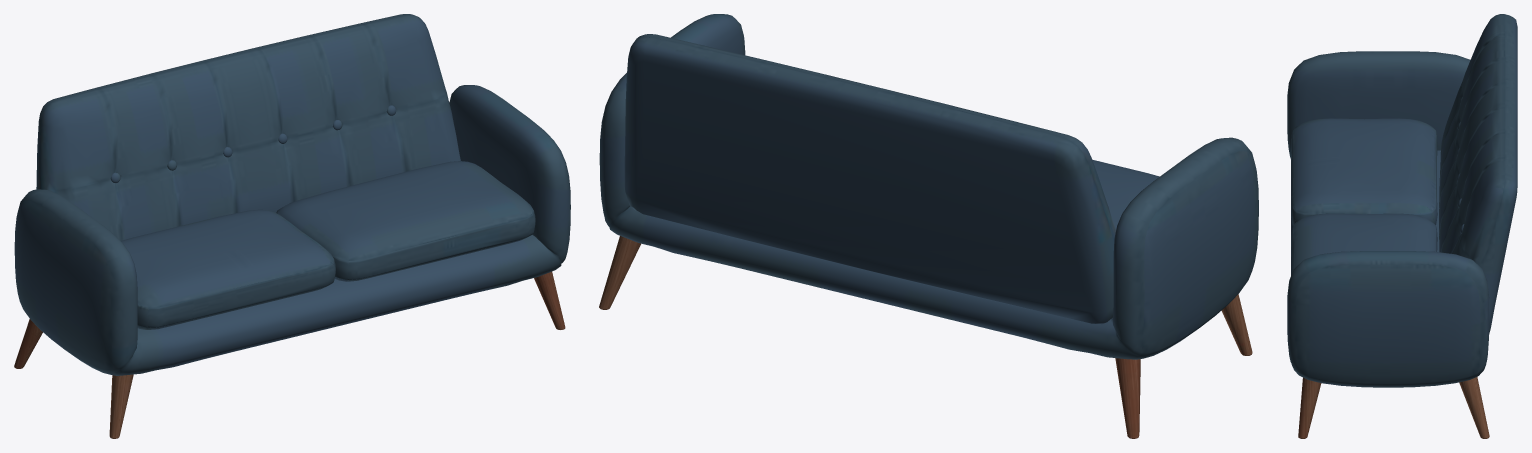
Rendered from sofa-25.glb.
3 views of the same model, side by side, from view 1: azimuth 30°, elevation 25°; view 2: azimuth 150°, elevation 25°; view 3: azimuth 270°, elevation 25° (orthographic). The views are drawn at different scales.
Visible parts, largest first — view 1: Sofa; view 2: Sofa; view 3: Sofa.
Part boxes in pixels (left/top/right/bottom): Sofa: left=14, top=14, right=570, bottom=438; Sofa: left=599, top=14, right=1258, bottom=438; Sofa: left=1287, top=14, right=1517, bottom=438.
Bounding box in the file's own units: 15.66 × 7.9 × 6.93.
1 material, 1 textured.
